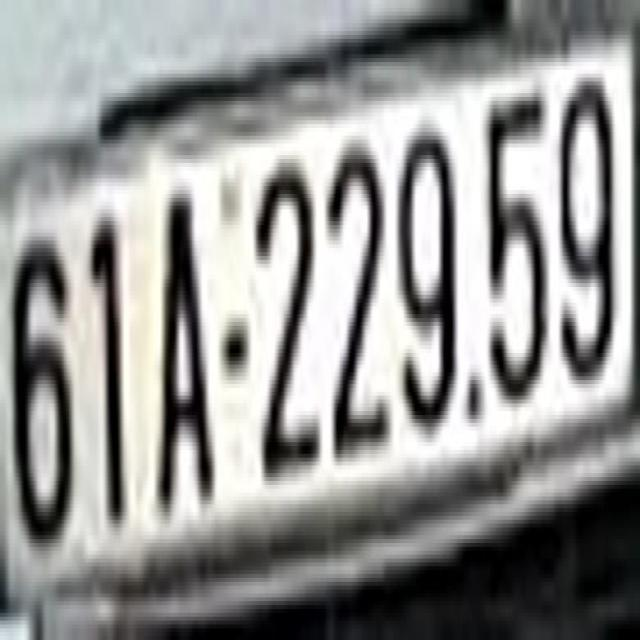1: (84, 206, 134, 558)
2: (251, 144, 320, 478), (322, 132, 390, 466)
5: (484, 82, 547, 400)
6: (12, 209, 73, 566)
9: (558, 70, 618, 400), (399, 120, 458, 438)
A: (158, 178, 214, 512)
